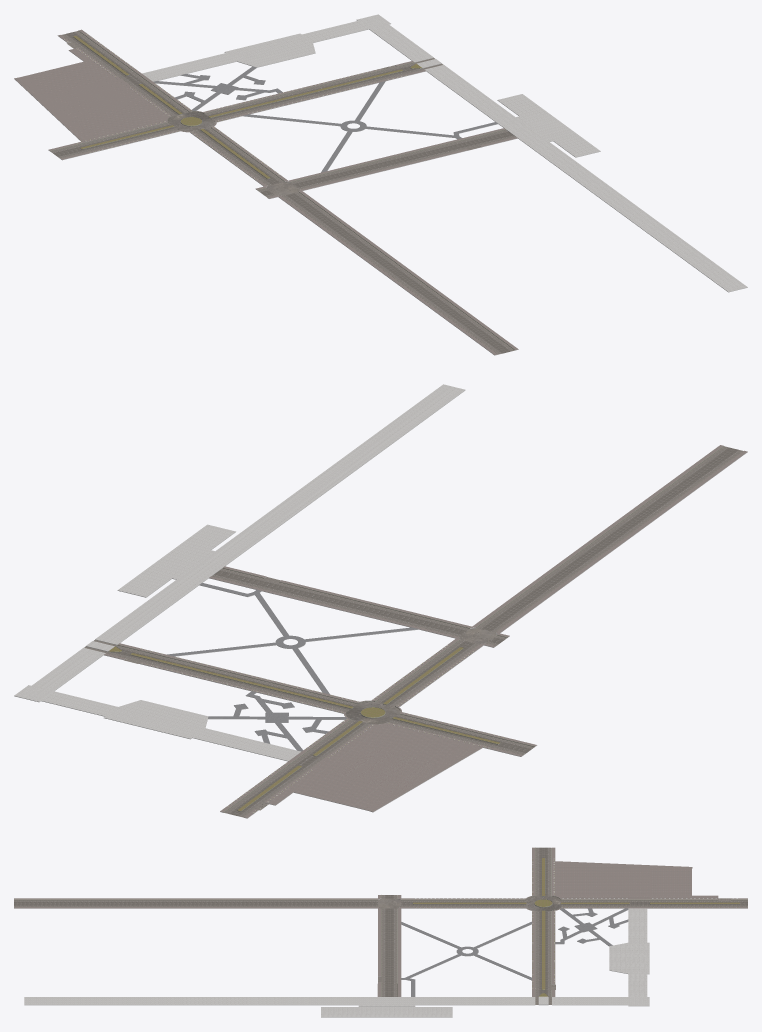
File: Base_Ground_Uni_f2.fbx
The picture shows the model from 3 angles, top to bottom: view 1: azimuth 30°, elevation 25°; view 2: azimuth 150°, elevation 25°; view 3: azimuth 270°, elevation 25°; orthographic projection. The views are drawn at different scales.
Visible parts, largest first — view 1: Cylinder.003; view 2: Cylinder.003; view 3: Cylinder.003.
Boxes of the visible parts, bbox=[...] form: Cylinder.003: bbox=[14, 14, 747, 355]; Cylinder.003: bbox=[14, 384, 747, 818]; Cylinder.003: bbox=[14, 847, 747, 1017].
Bounding box in the file's own units: 85521 × 46702 × 111.
Materials: 28 (19 with a texture image).
